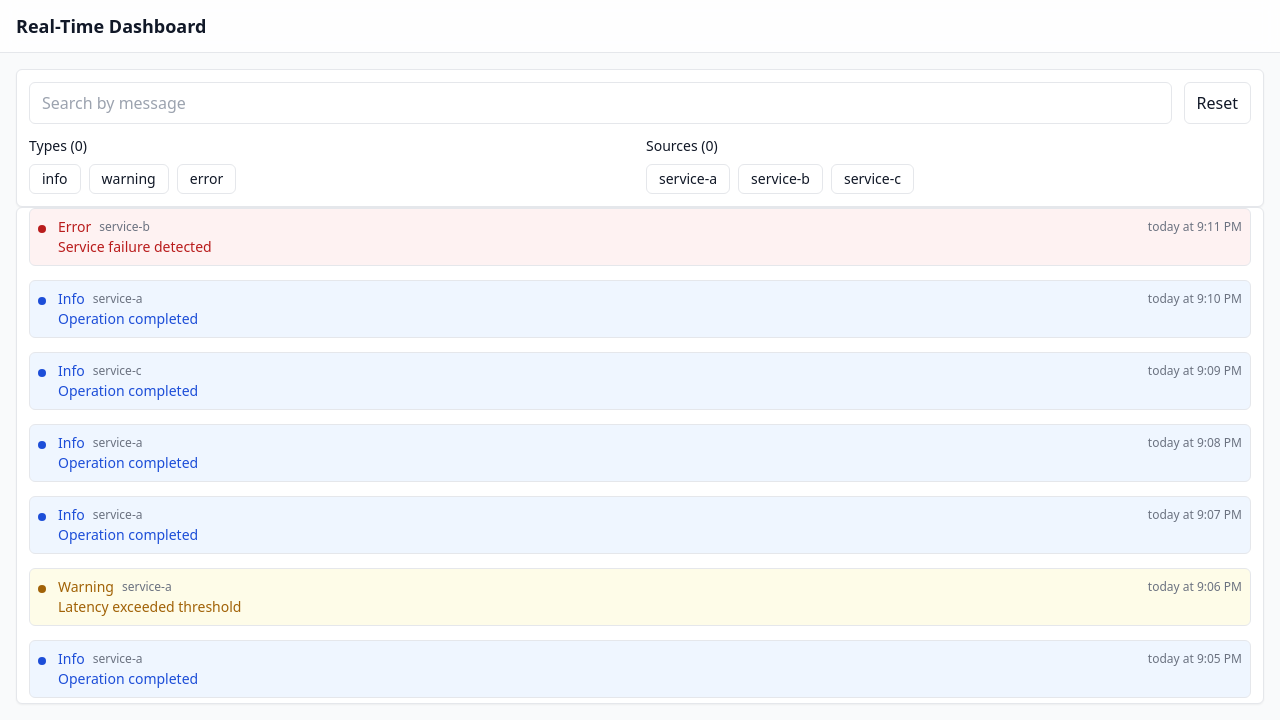
Test: Event Details Panel › should display raw JSON
The width and height of the screenshot is (1280, 720).
Click the 1st button with test id "event-row": (75, 227) [29,208,1251,266]
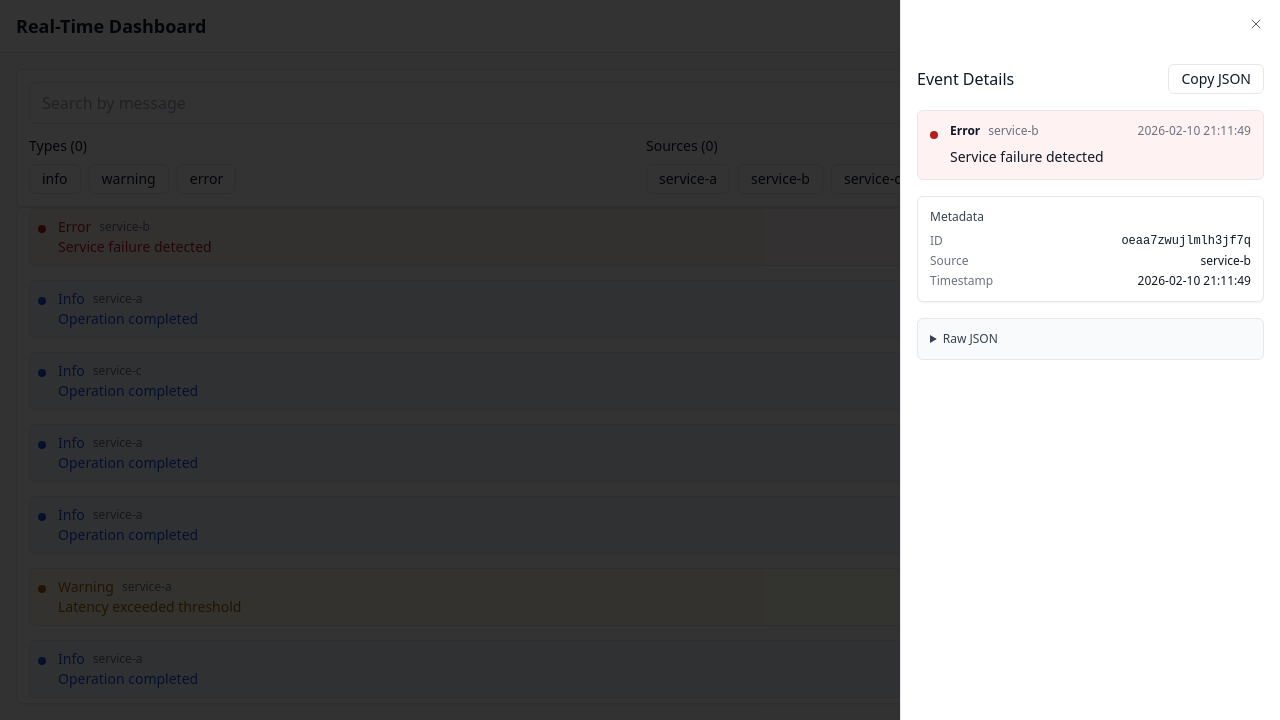
Result: the dialog with test id "event-details-panel" is shown at [900,0,1279,719]
Result: the element with test id "event-details" is shown at [917,64,1264,360]
Find and expand raw JSON section
Click the heading "Raw JSON": (971, 339) [943,330,998,347]
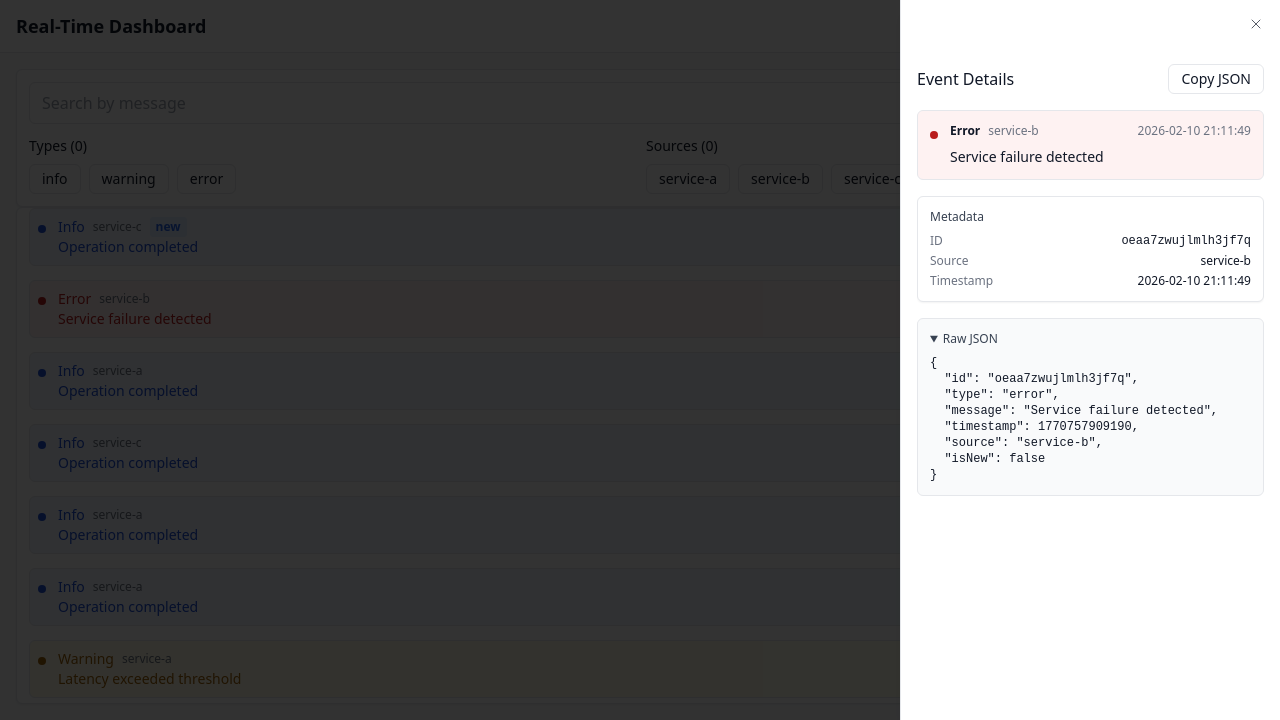
Result: the text "{" is shown at [930,355,1251,483]
Result: the text "}" is shown at [930,355,1251,483]
